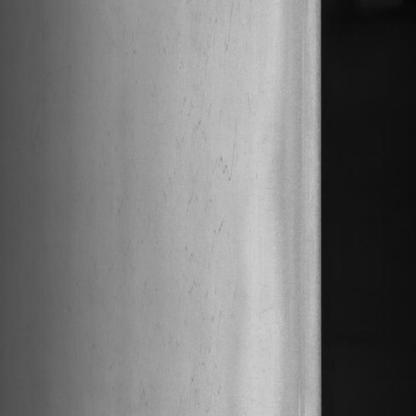silk_spot: (158, 23, 240, 389)
